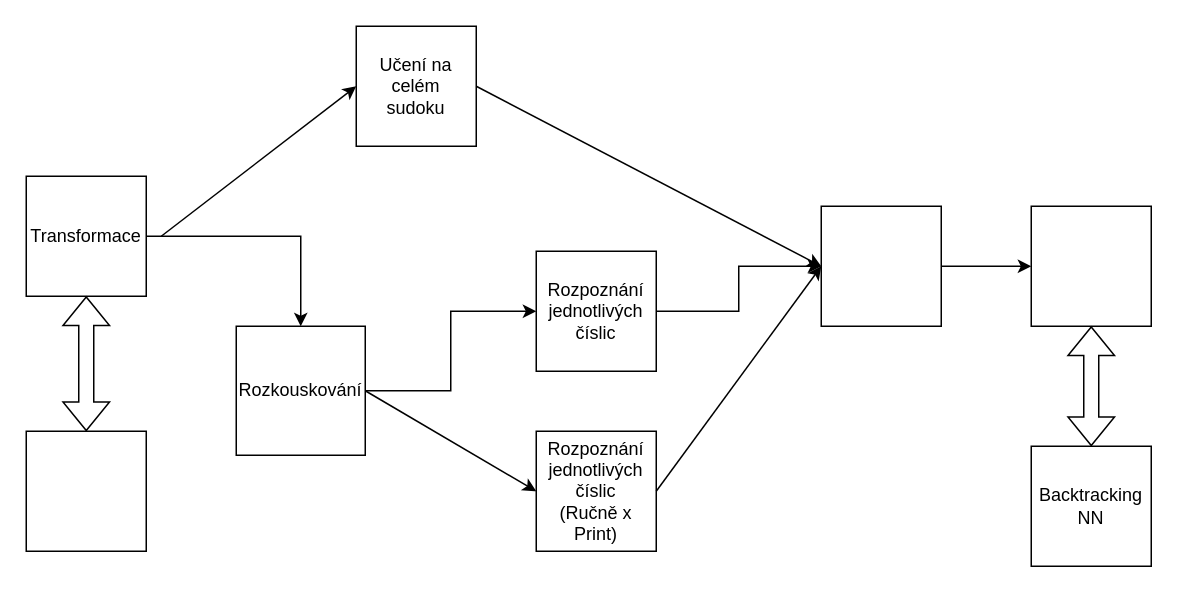
The diagram is 1178 pixels wide and 593 high, and some of its shapes have lost their labels. Each missing label, with the centre of its shape:
"OpenCv NN" goes at (x=85, y=490).
"Reprezentace sudoku" goes at (x=880, y=265).
"Vyřešení" goes at (x=1090, y=265).
